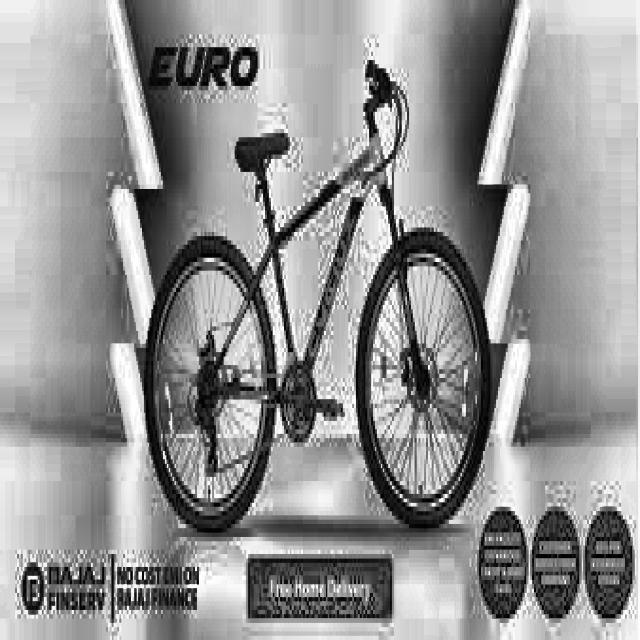bicycle: (136, 55, 494, 541)
